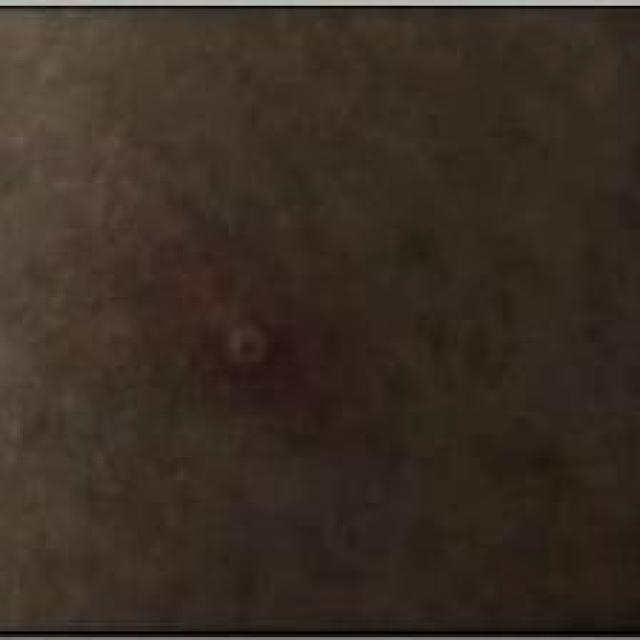monkeypox: (62, 152, 554, 602)
